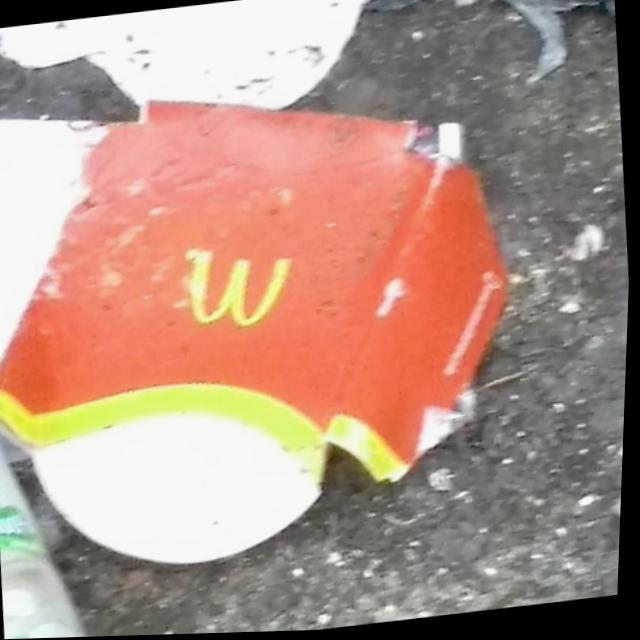Paper: (0, 47, 546, 595)
